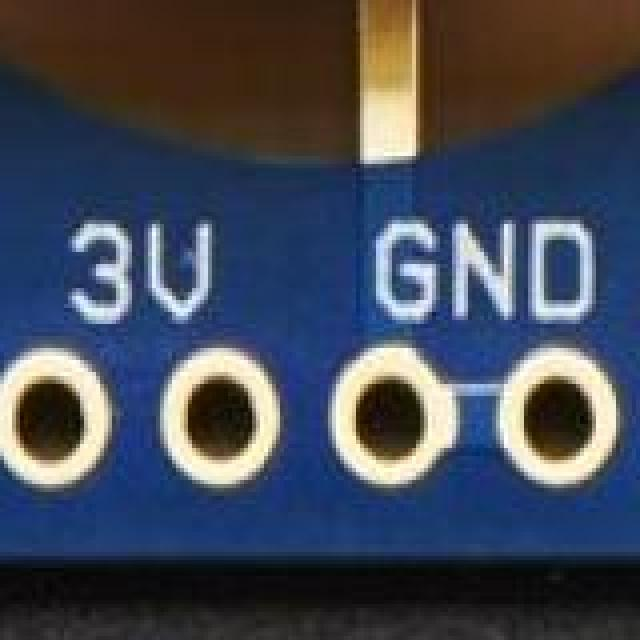battery: (0, 0, 640, 72)
